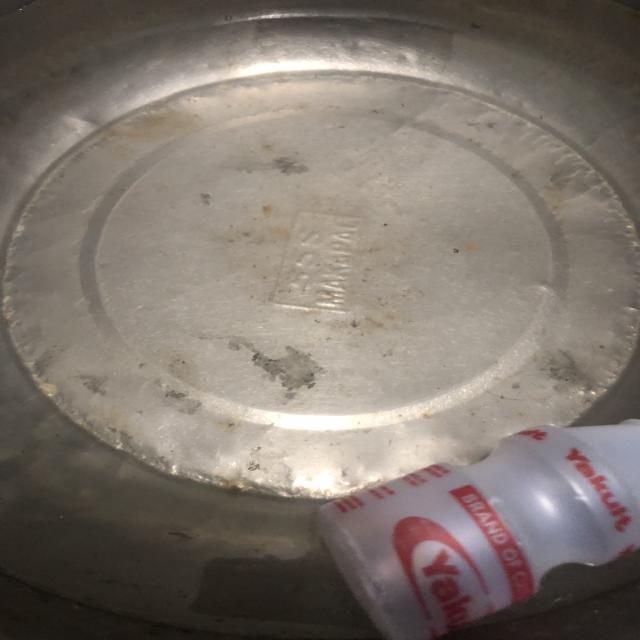Plastic Bottle: (309, 402, 640, 638)
